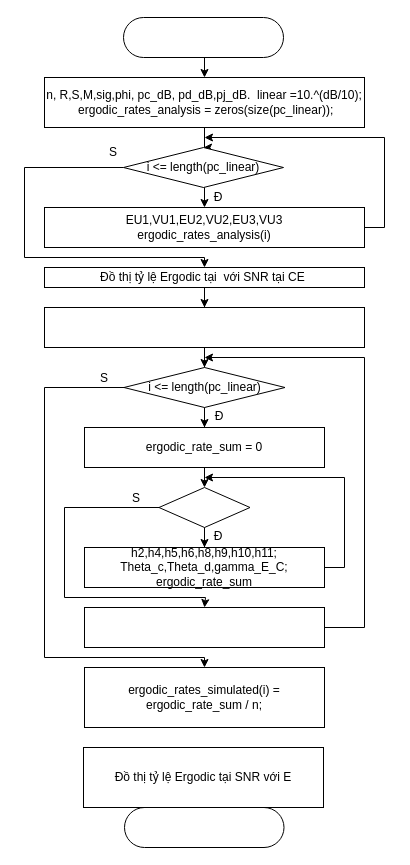
Image size: 410x865. Some labels were removed from this diagram. Here are the shapes that lost their labels. From the top down, the centre of each, then its label:
At point (203, 37): "BẮT ĐẦU".
At point (204, 327): "pc_linear = 10.^(pc_dB/10); ergodic_rates_simulated = zeros(size(pc_linear));".
At point (204, 507): "j <= n".
At point (204, 627): "Tính Tỷ lệ Ergodic tại E theo SNR(i) = Tổng Ergodic tại E / n".
At point (204, 827): "KẾT THÚC".
